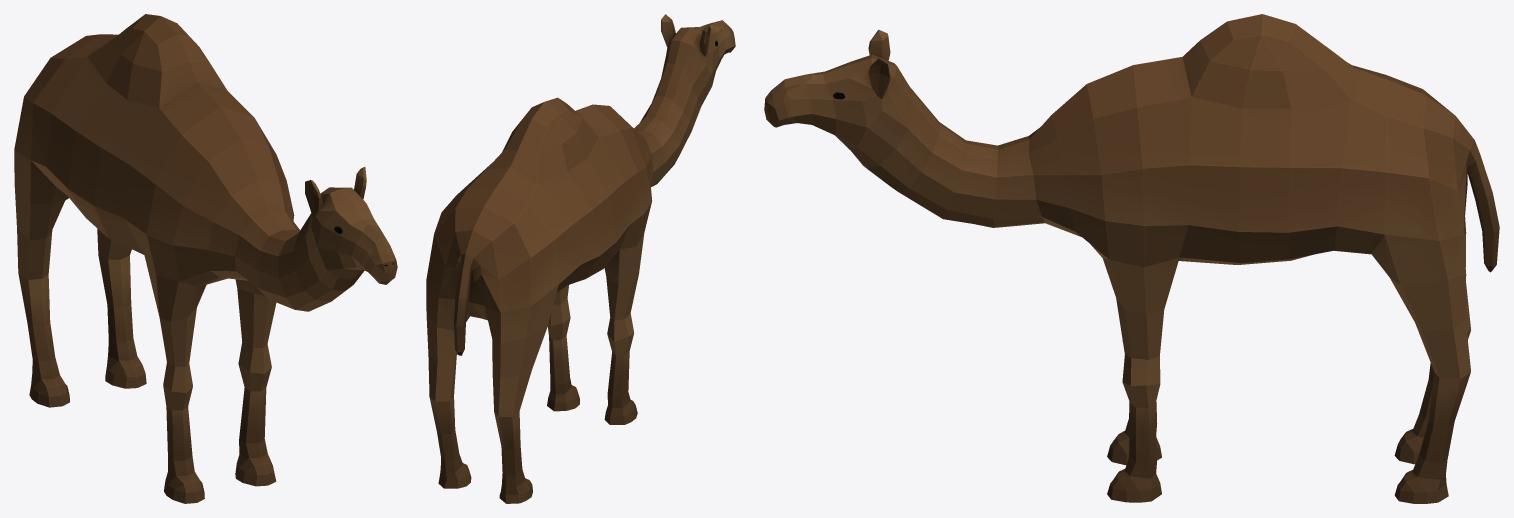
File: 8fd96586-f737-422e-a8de-b0e87eed77dc.glb
3 views of the same model, side by side, from view 1: azimuth 30°, elevation 25°; view 2: azimuth 150°, elevation 25°; view 3: azimuth 270°, elevation 25° (orthographic). The views are drawn at different scales.
Visible parts, largest first — view 1: DromedaryCamels_Mesh; view 2: DromedaryCamels_Mesh; view 3: DromedaryCamels_Mesh.
Part boxes in pixels (<box>): DromedaryCamels_Mesh: <box>14,14,397,503</box>; DromedaryCamels_Mesh: <box>426,14,735,503</box>; DromedaryCamels_Mesh: <box>764,14,1499,503</box>.
Size of the model in its own units: 3.42 by 8.65 by 12.47.
Materials: 1 (1 with a texture image).
